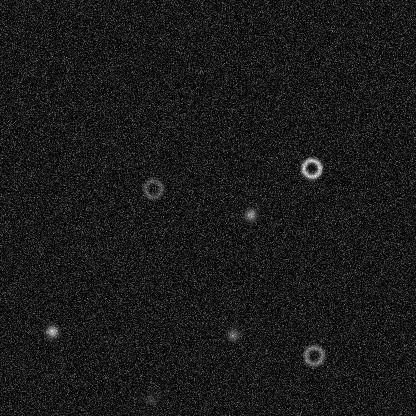Ring: (299, 156, 323, 180), (301, 343, 325, 367), (141, 176, 165, 200)
Spot: (43, 323, 59, 339), (225, 326, 241, 342), (242, 206, 258, 222), (142, 391, 158, 407)
